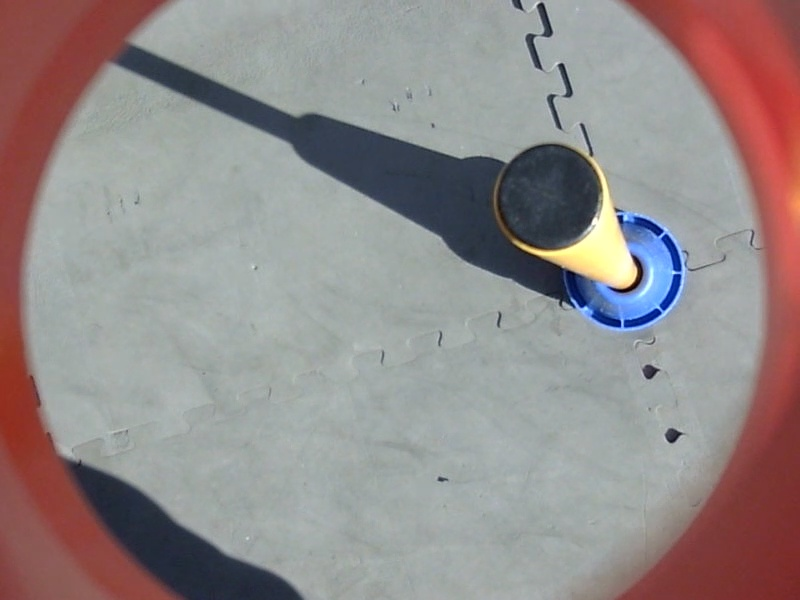tip: (487, 139, 612, 257)
